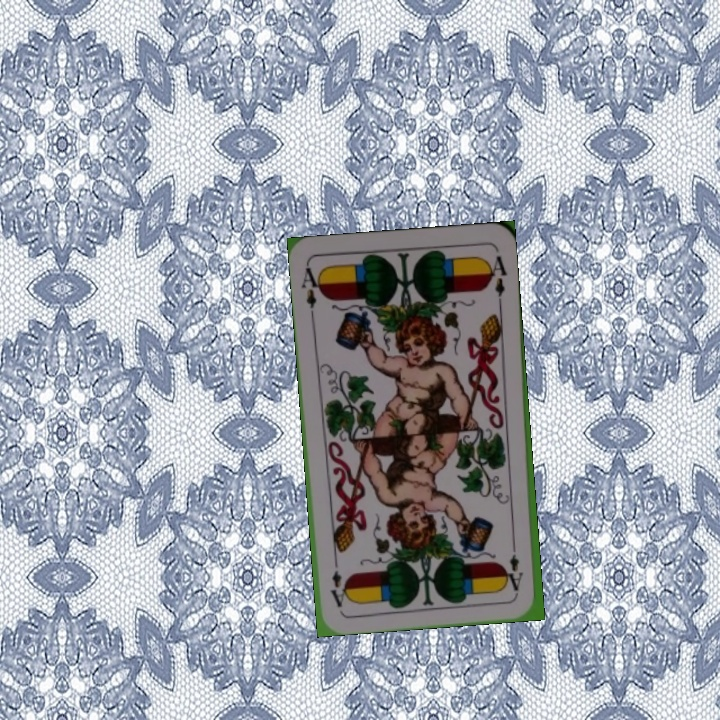EA: (297, 261, 325, 320), (506, 536, 526, 593)
